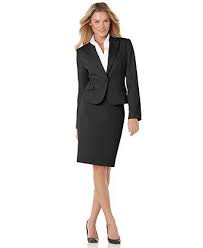F_W_suit jacket: (68, 38, 150, 120)
F_tailored skirt: (73, 101, 124, 174)
